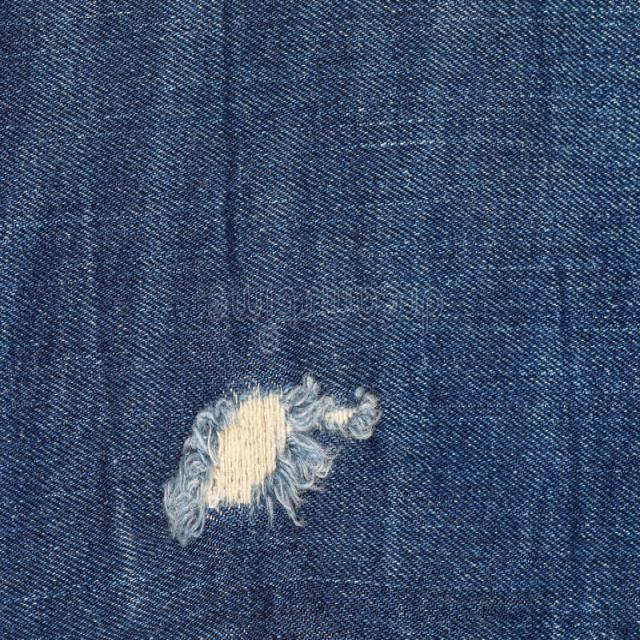Hole: (163, 376, 381, 546)
Line: (534, 0, 582, 579), (215, 0, 246, 322)
